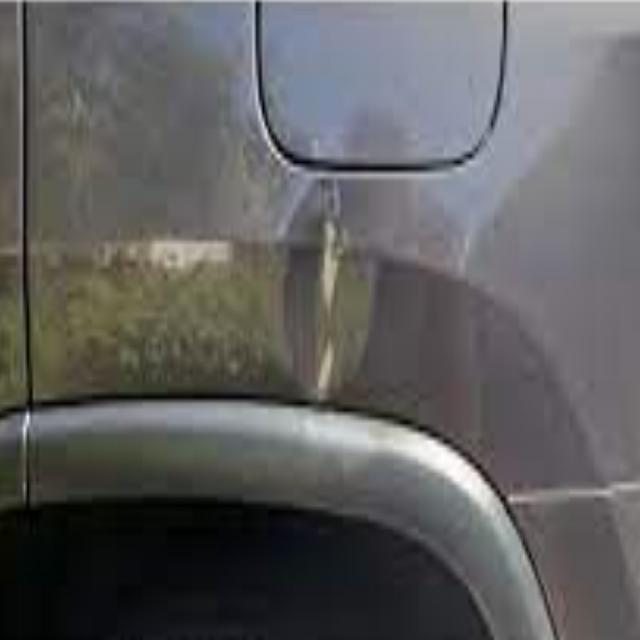dents: (272, 151, 377, 405)
